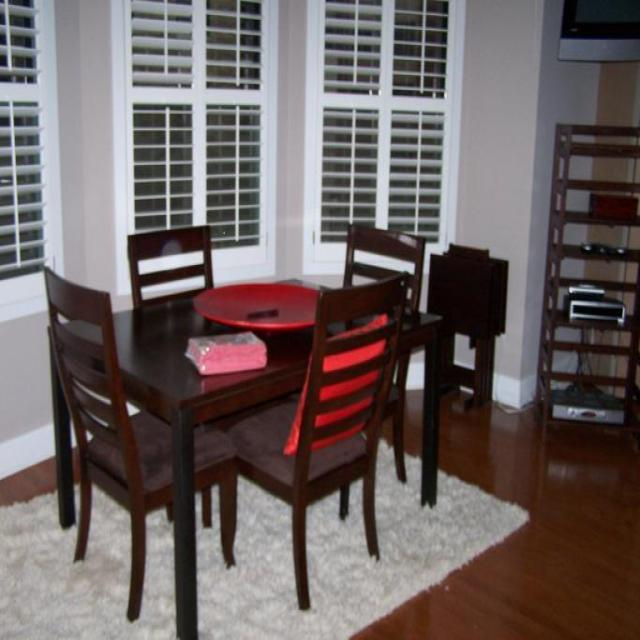carpet: (0, 430, 529, 639)
chair: (42, 264, 237, 621), (224, 270, 409, 610)
curtains: (128, 0, 262, 250), (319, 0, 449, 246), (0, 0, 46, 280)
shelves: (534, 121, 639, 446)
table: (46, 272, 443, 638)
television: (556, 0, 639, 62)
